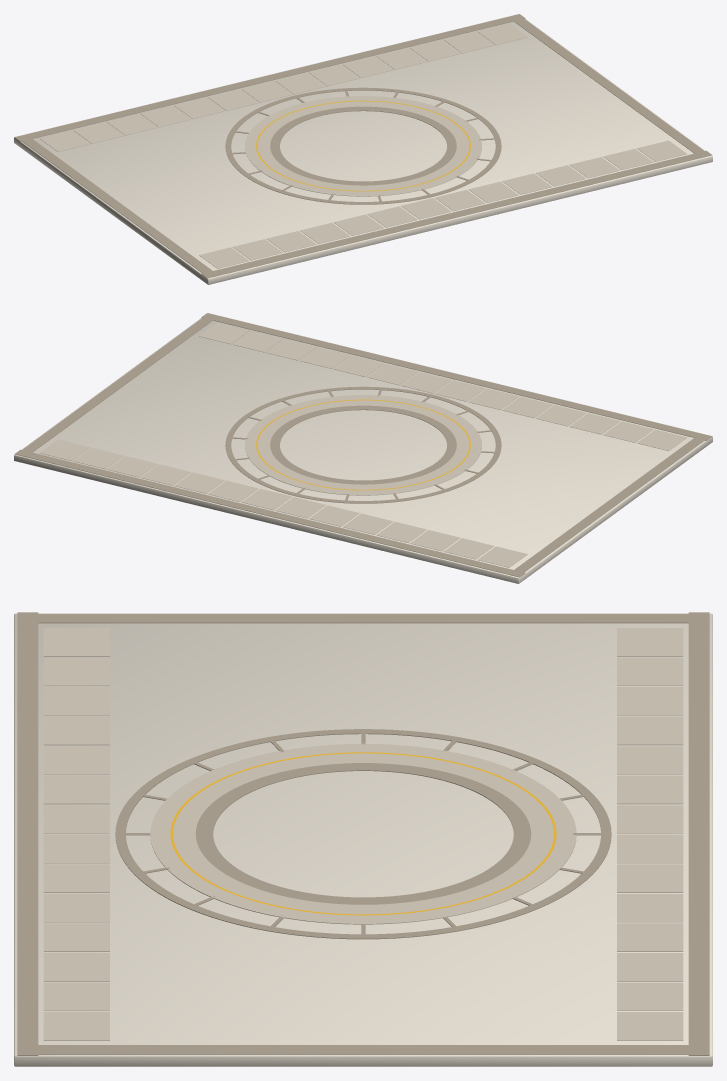
File: PropPlazaFloor.fbx
3 views of the same model, one above another, from view 1: azimuth 30°, elevation 25°; view 2: azimuth 150°, elevation 25°; view 3: azimuth 270°, elevation 25° (orthographic). The views are drawn at different scales.
Visible parts, largest first — view 1: Plaza, Stone, StoneDark, Gold; view 2: Plaza, Stone, StoneDark, Gold; view 3: Plaza, Stone, StoneDark, Gold.
Part boxes in pixels (<box>): Plaza: <box>14,14,712,284</box>; Stone: <box>40,23,686,268</box>; StoneDark: <box>15,14,711,278</box>; Gold: <box>256,100,470,191</box>; Plaza: <box>14,313,712,583</box>; Stone: <box>40,322,686,567</box>; StoneDark: <box>15,313,711,577</box>; Gold: <box>256,399,470,490</box>; Plaza: <box>14,613,712,1066</box>; Stone: <box>43,628,683,1040</box>; StoneDark: <box>17,612,709,1055</box>; Gold: <box>170,752,556,915</box>.
Size of the model in its own units: 6000 by 74 by 4000.
